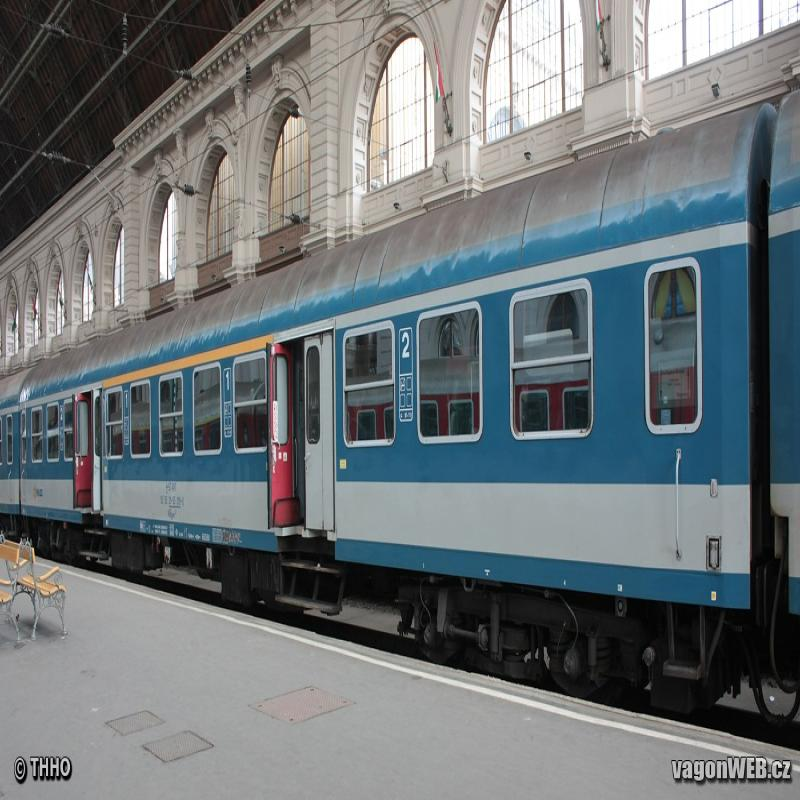train: (21, 108, 767, 727)
